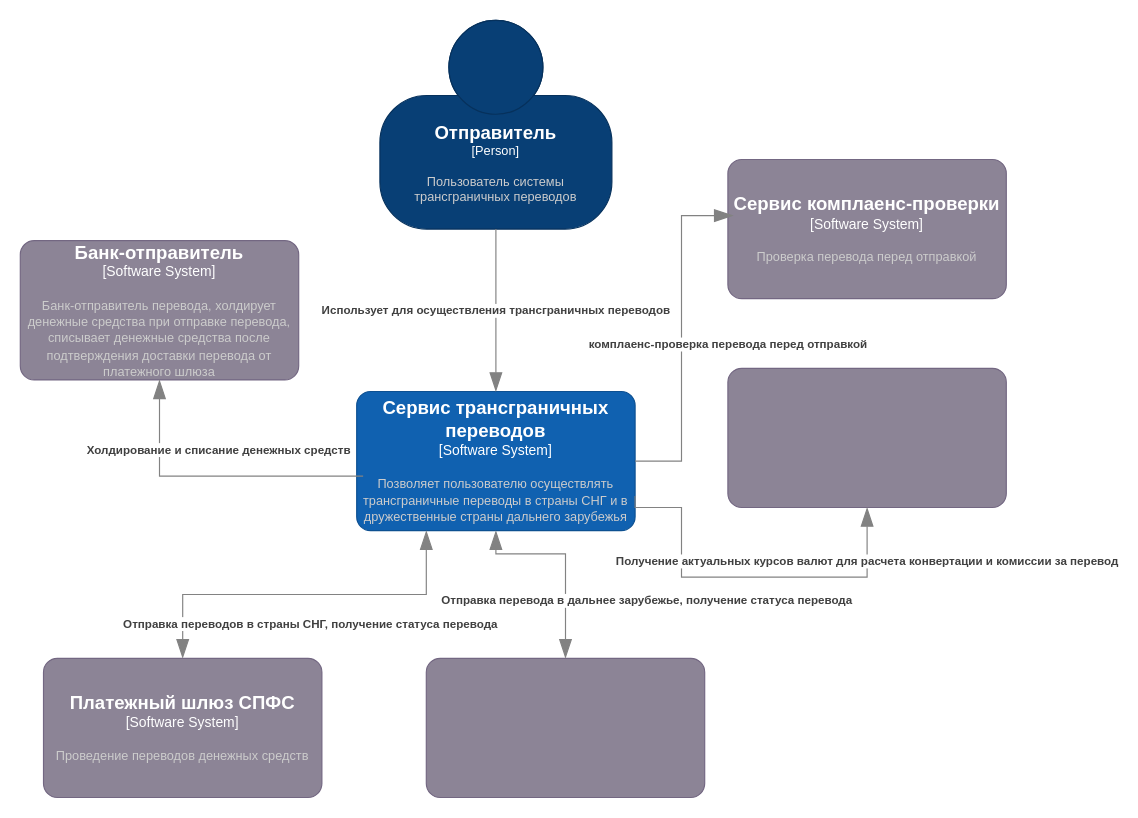
Some shapes in this 1138 by 818 pixel diagram are drawn without their labels. The shapes that lost their labels are listed below. From the top down, each one's box as (x1, y1, x2, y2) in pixels, then its label:
(727, 367, 1006, 507): FX-провайдер [Software System] Присылает актуальные курсы валют
(425, 657, 705, 798): Платежный шлюз CIPS [Software System] Проведение переводов денежных средств
